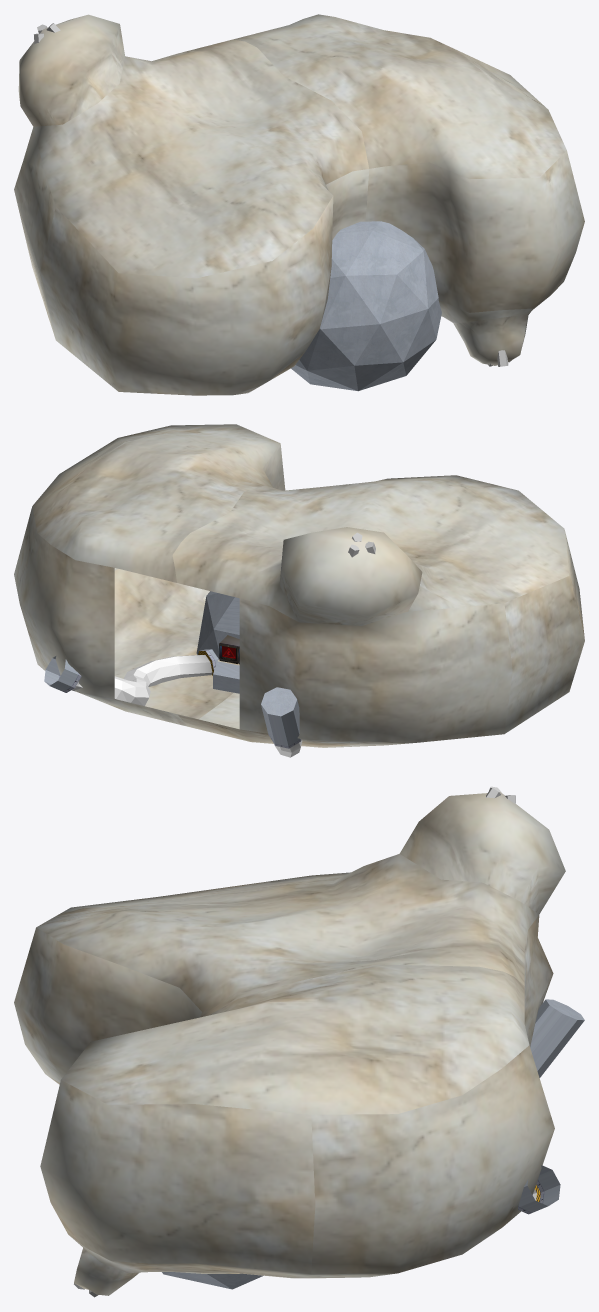
File: mines.dae
3 renders of one model, top to bottom at view 1: azimuth 30°, elevation 25°; view 2: azimuth 150°, elevation 25°; view 3: azimuth 270°, elevation 25°, orthographic. The views are drawn at different scales.
Visible parts, largest first — view 1: mines, reactor; view 2: mines, cables, reactor, console, monitor; view 3: mines, cables, reactor.
Boxes of the visible parts, x1,y1,x2,y2 form: mines: (14, 14, 584, 395); reactor: (291, 221, 441, 391); mines: (14, 424, 584, 747); cables: (44, 649, 302, 757); reactor: (196, 591, 239, 659); console: (213, 659, 239, 693); monitor: (219, 635, 239, 664); mines: (14, 792, 565, 1295); cables: (518, 999, 584, 1214); reactor: (162, 1272, 263, 1289).
Bounding box in the file's own units: 268 × 230 × 171.
8 materials, 6 textured.
